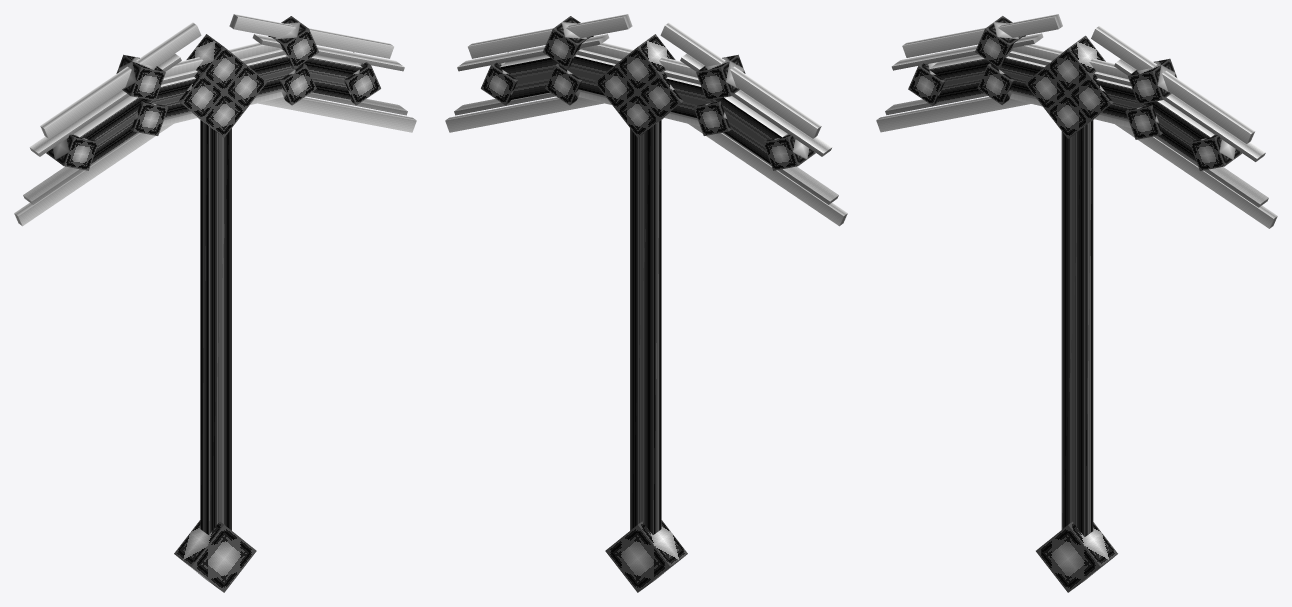
The model's file is iron_pickaxe.gltf.
3 views of the same model, side by side, from view 1: azimuth 30°, elevation 25°; view 2: azimuth 150°, elevation 25°; view 3: azimuth 330°, elevation 25° (orthographic).
Visible parts, largest first — view 1: cube (×25); view 2: cube (×25); view 3: cube (×25).
Part boxes in pixels (x1,y1,x2,y2): cube (×25): (14,14,416,592); cube (×25): (445,14,847,592); cube (×25): (876,14,1277,592).
Bounding box in the file's own units: 1.62 × 2.2 × 0.125.
Materials: 7 (1 with a texture image).
